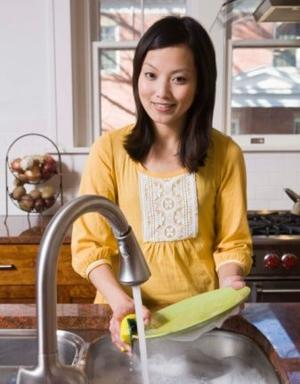person: (69, 11, 255, 355)
